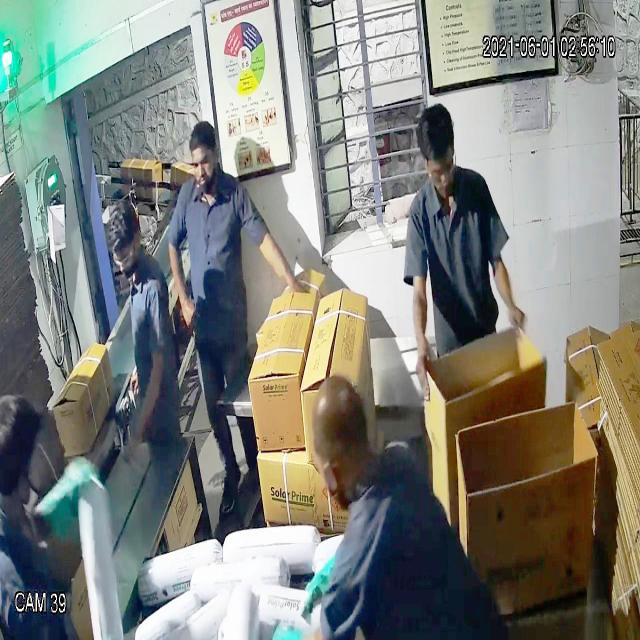glasses: (422, 149, 460, 191), (110, 241, 140, 275)
